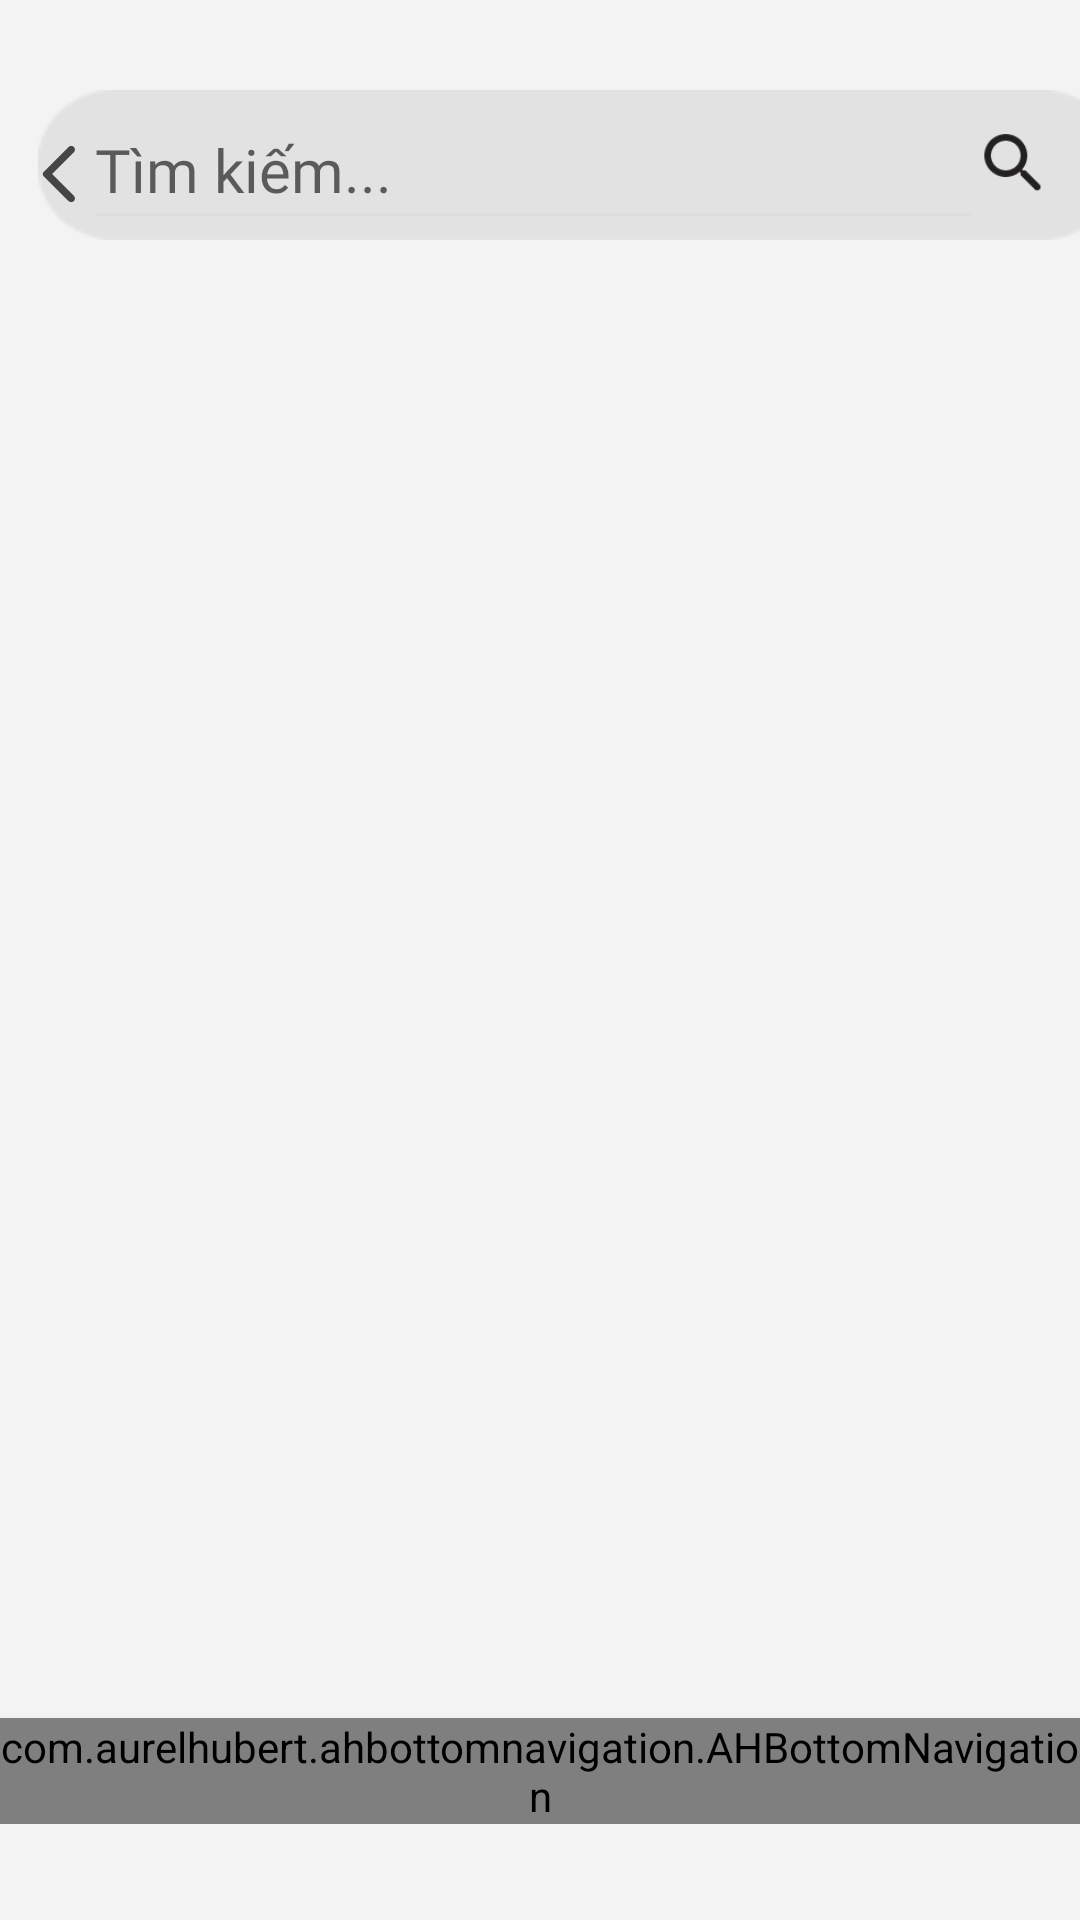

Where icons sit on this 1080w x 1920h app screen, as (x1, y1, x2, y2):
arrow back: (38, 114, 120, 234)
